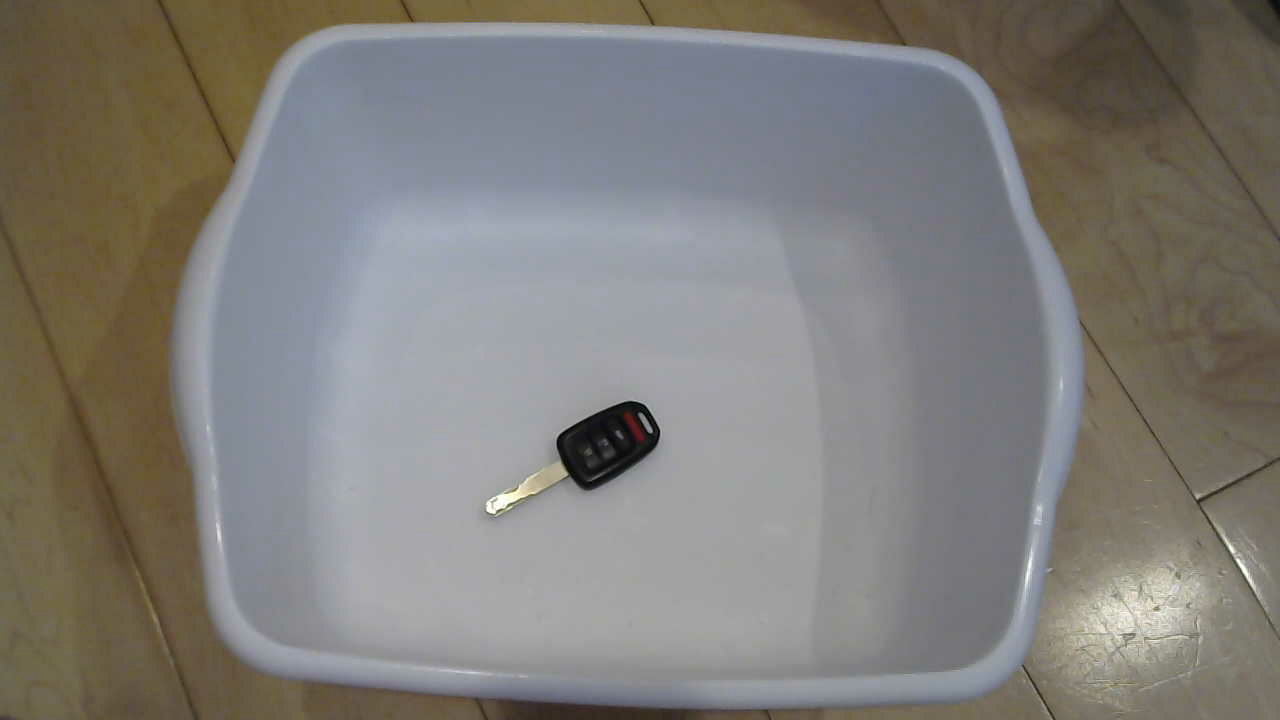key: (463, 400, 672, 539)
